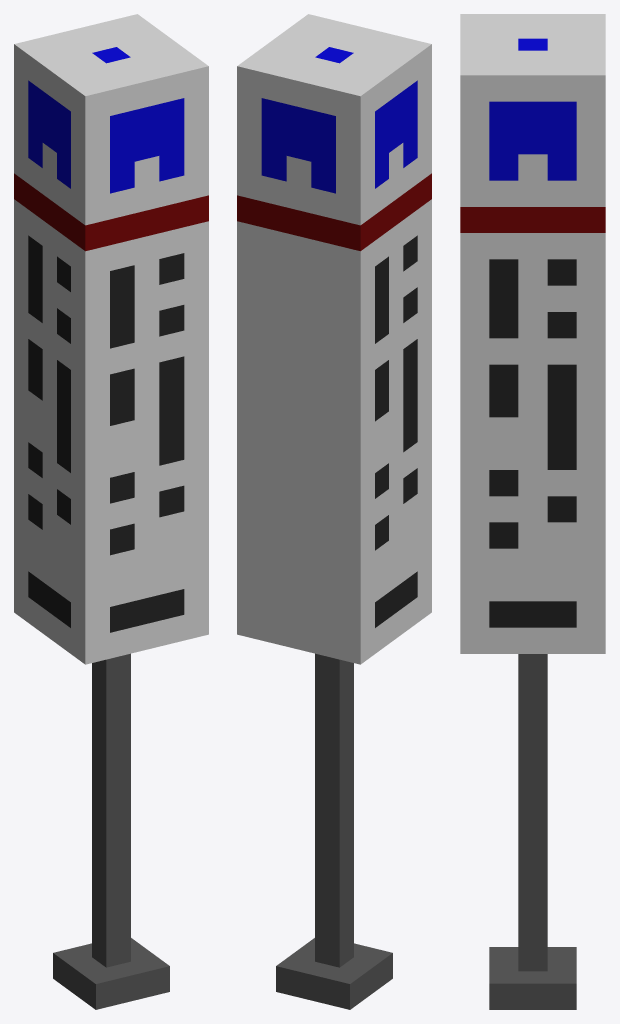
File: taxiSign.glb
3 renders of one model, left to right at view 1: azimuth 30°, elevation 25°; view 2: azimuth 150°, elevation 25°; view 3: azimuth 270°, elevation 25°, orthographic.
Parts seen in each view (by area): view 1: ObjObject; view 2: ObjObject; view 3: ObjObject.
Boxes of the visible parts, x1,y1,x2,y2 form: ObjObject: (14, 14, 208, 1009); ObjObject: (237, 14, 431, 1009); ObjObject: (460, 14, 605, 1009).
Bounding box in the file's own units: 0.5 × 3.6 × 0.5.
1 material, 1 textured.
